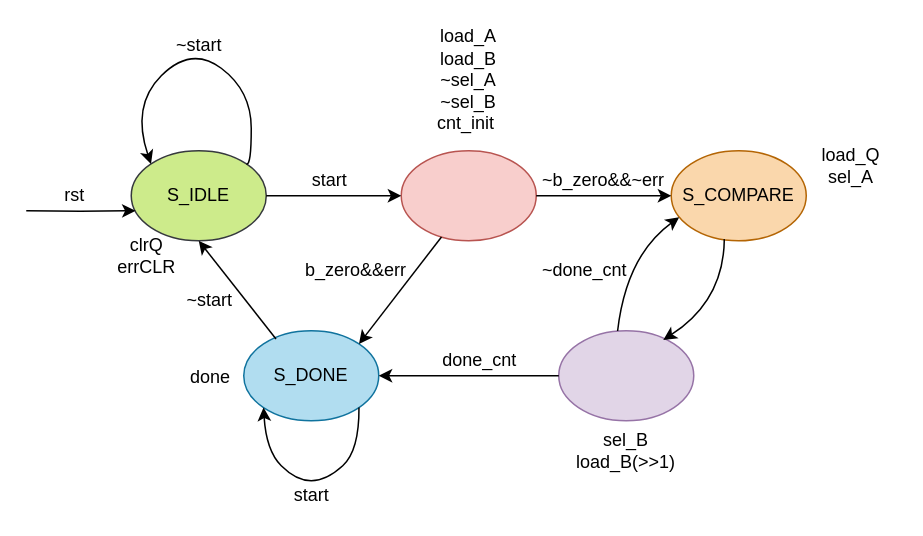
The diagram is 923 pixels wide and 536 high, and some of its shapes have lost their labels. Here are the shapes that lost their labels. From the top down, the centre of each, then its label:
point 468,195: S_INIT
point 625,375: S_SHIFT
